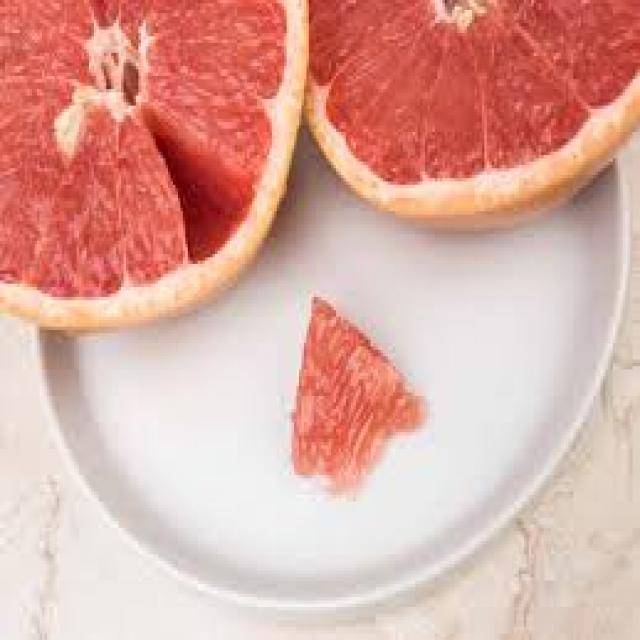organic waste: (0, 0, 306, 330), (299, 0, 638, 228), (284, 290, 425, 485)
